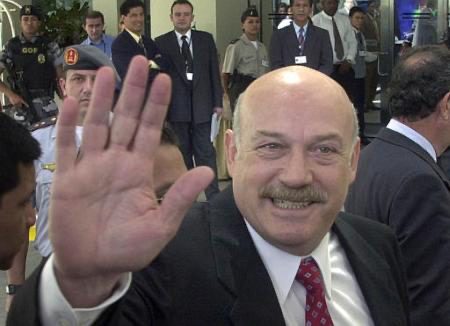Face: (236, 95, 348, 243), (0, 158, 44, 277), (64, 68, 106, 120), (124, 5, 146, 32), (171, 4, 192, 30), (17, 13, 43, 33), (84, 16, 105, 40), (241, 15, 260, 39), (349, 9, 368, 32), (291, 0, 311, 21)
